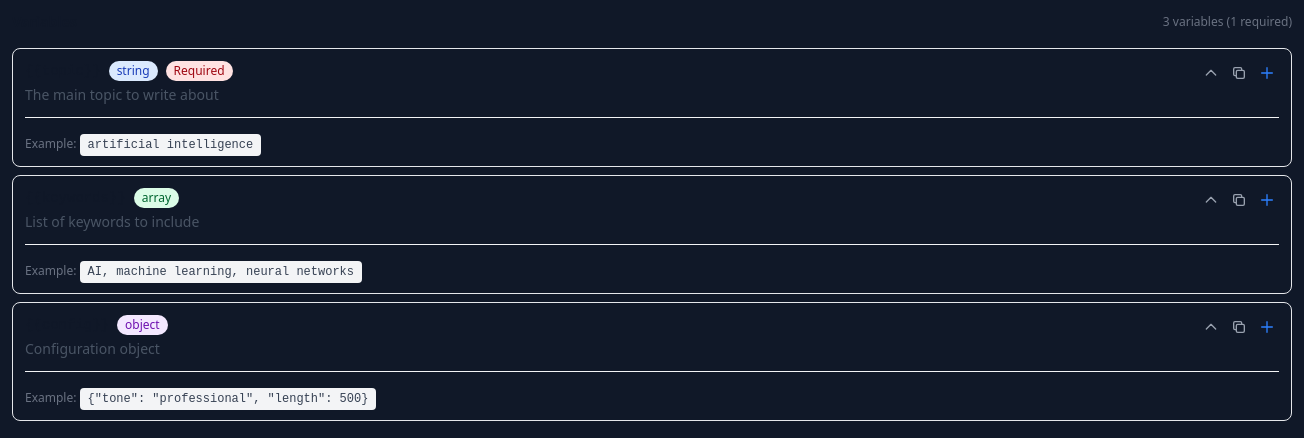
Test case: PromptVariablePanel › should toggle expand/collapse for variable details
Note: Items are expanded by default, so first collapse then expand
Click the button named "collapse" in the row of "string" at (1211, 73), box [1199,61,1223,85]
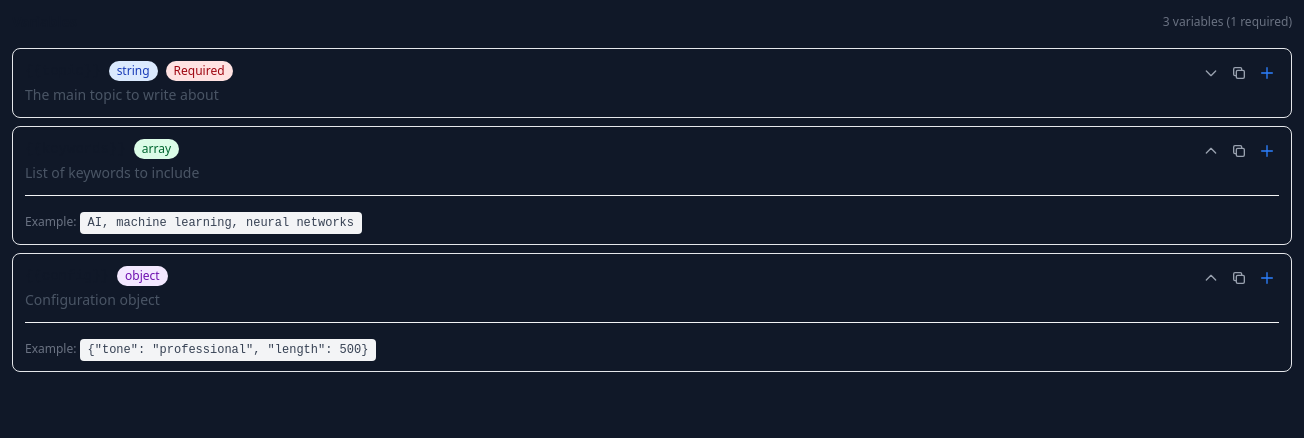
Click the button named "expand" at (1211, 73), box [1199,61,1223,85]
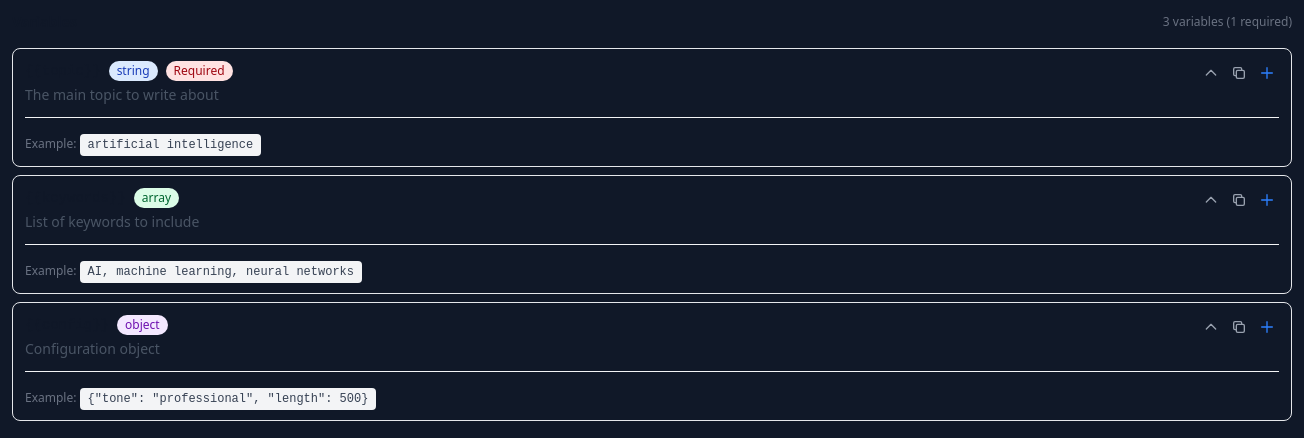
Expected: the text "artificial intelligence" is shown, [80,134,261,156]
